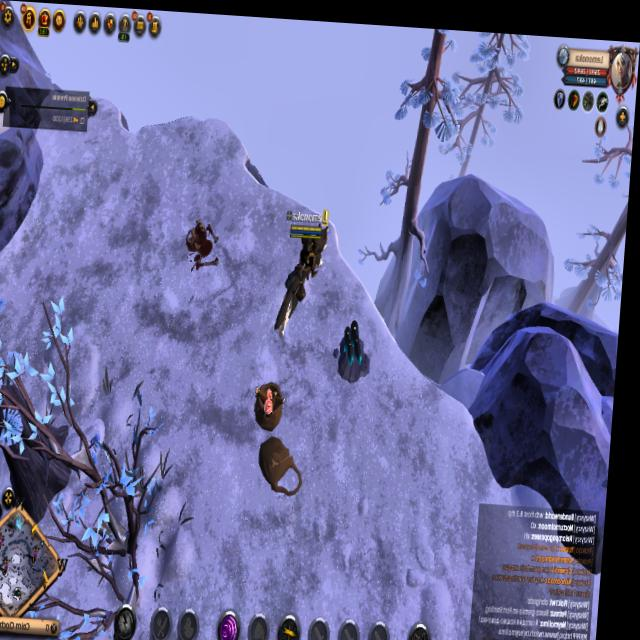ore tier 4: (339, 313, 377, 378)
